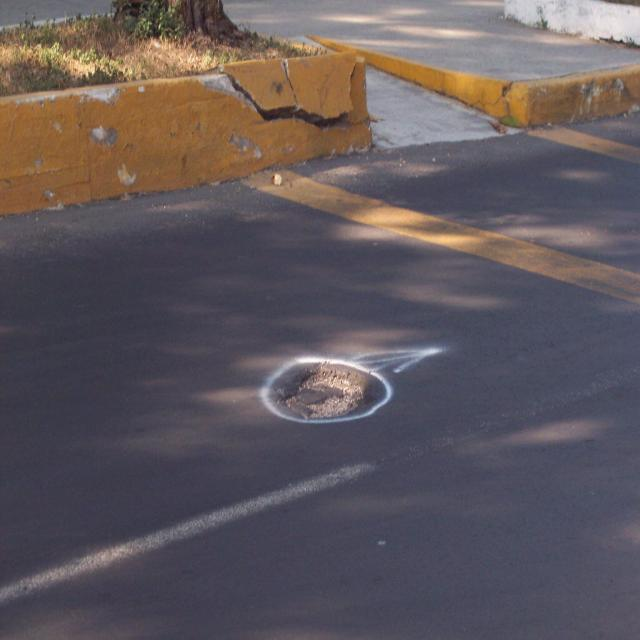Pothole: (285, 362, 366, 419)
